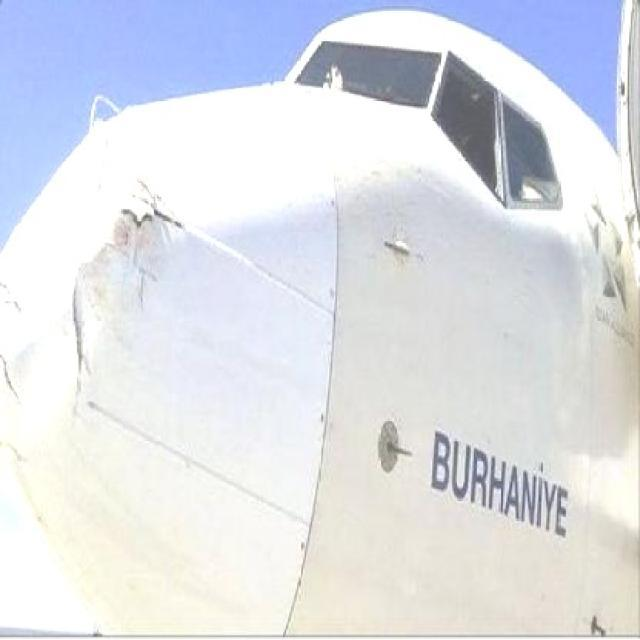dent: (3, 101, 188, 375)
